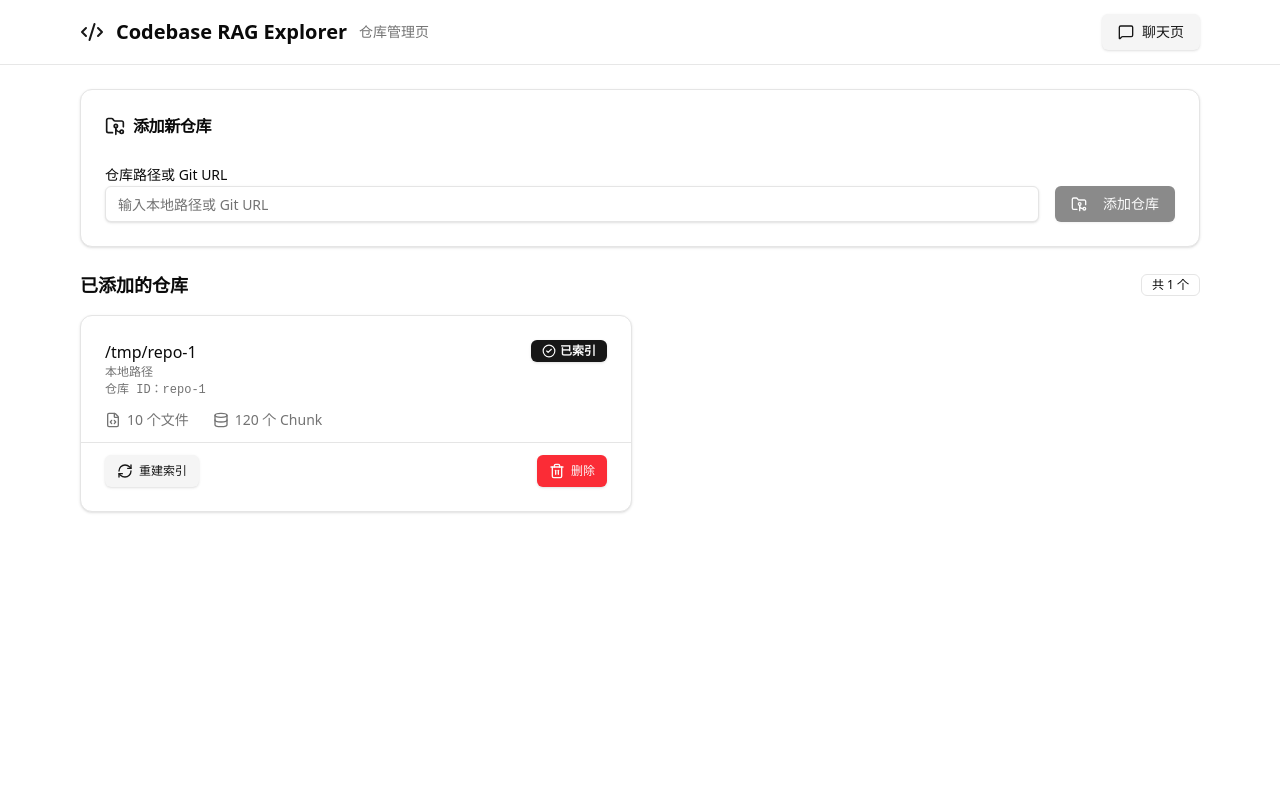
Test: ReposPage › does not reload when duplicate-confirm dialog is cancelled
Expected: the text "/tmp/repo-1" is shown, [105,341,197,363]
In the field with placeholder "输入本地路径或 Git URL": point(572, 204) [105,186,1039,222], type "/tmp/repo-1"
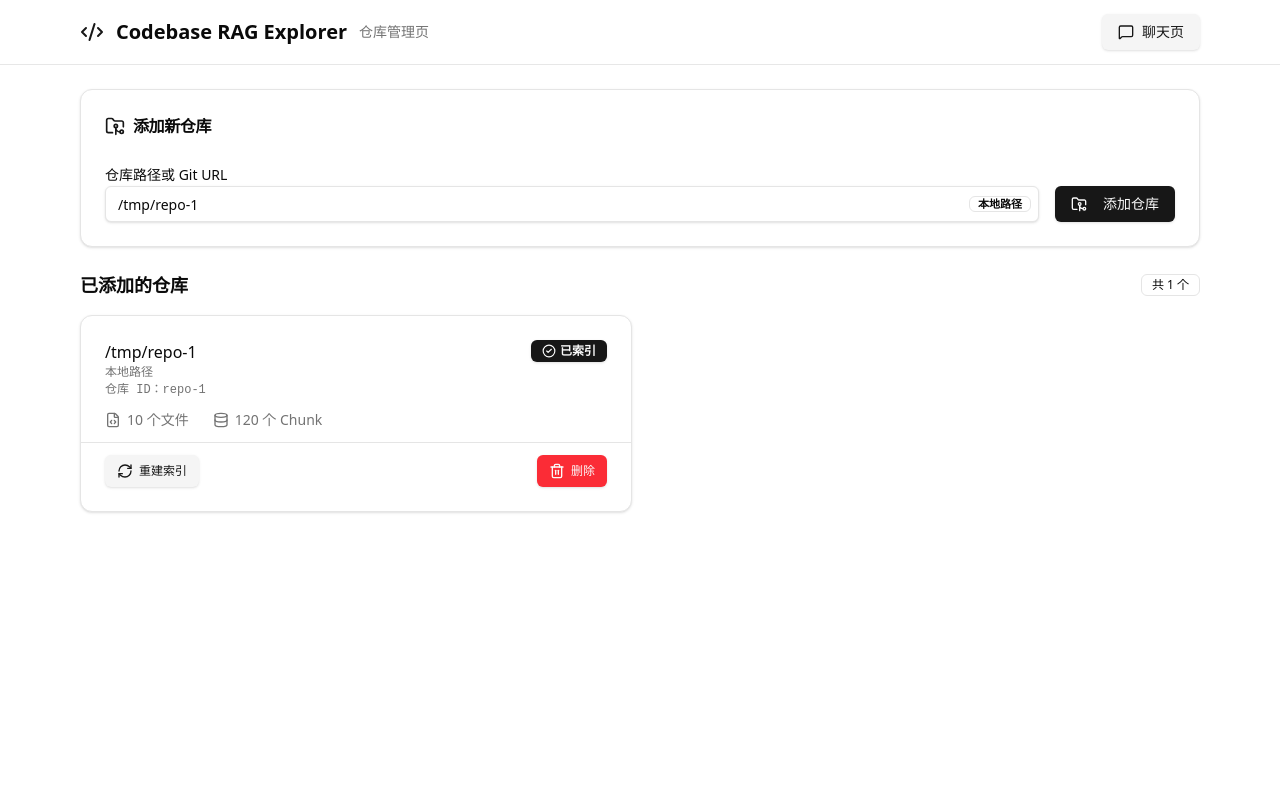
Click the button "添加仓库": point(1115, 204) [1055,186,1175,222]
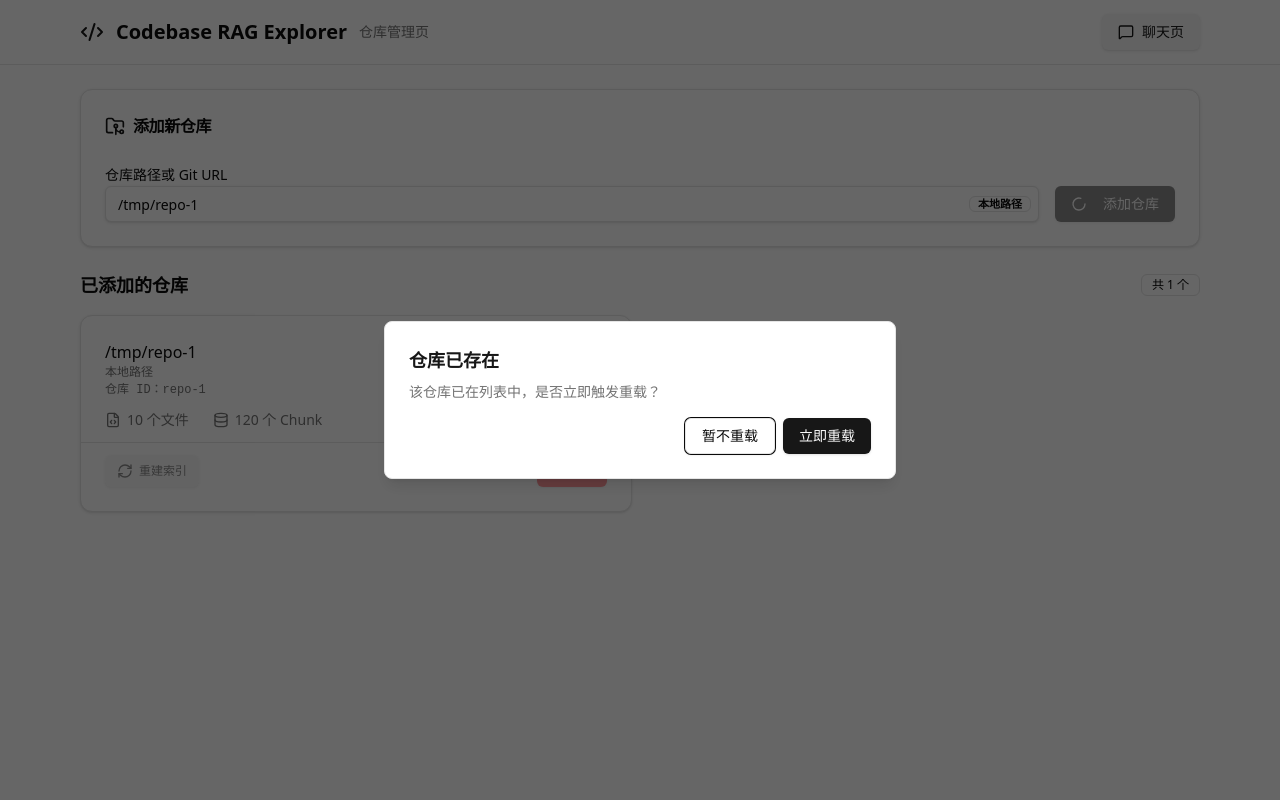
Expected: the dialog is shown, [384,321,896,479]
Click the button "暂不重载": point(730, 436) [685,418,775,454]
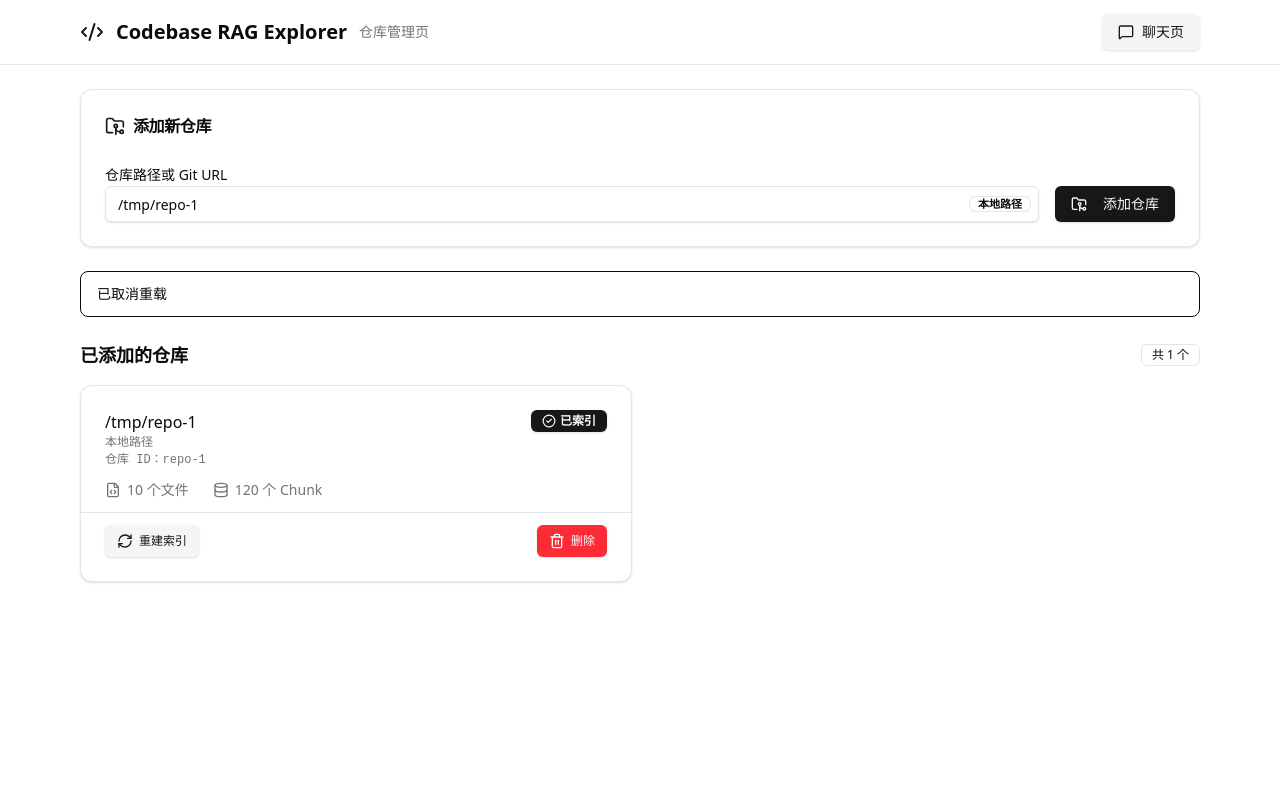
Expected: the text "已取消重载" is shown, [97,284,167,303]
